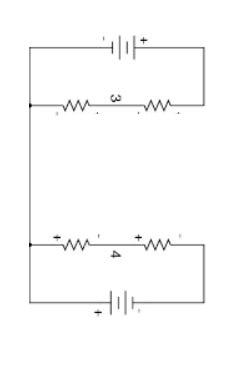resistor: (50, 231, 103, 258), (49, 93, 101, 118), (129, 91, 178, 116), (133, 232, 183, 254)
